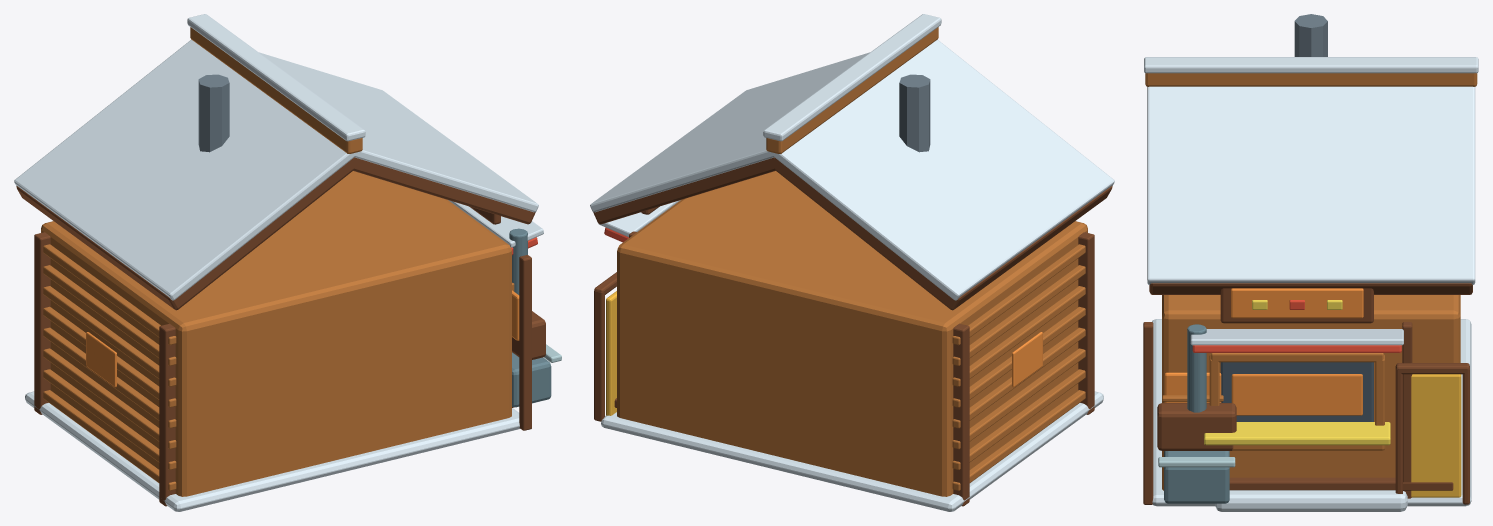
Rendered from camp-hut.glb.
3 views of the same model, side by side, from view 1: azimuth 30°, elevation 25°; view 2: azimuth 150°, elevation 25°; view 3: azimuth 270°, elevation 25° (orthographic). The views are drawn at different scales.
Parts seen in each view (by area): view 1: CampHutMerged; view 2: CampHutMerged; view 3: CampHutMerged.
Part boxes in pixels (<box>): CampHutMerged: <box>14,14,561,511</box>; CampHutMerged: <box>590,14,1114,511</box>; CampHutMerged: <box>1143,14,1478,511</box>.
Size of the model in its own units: 8.59 by 7.23 by 6.01.
